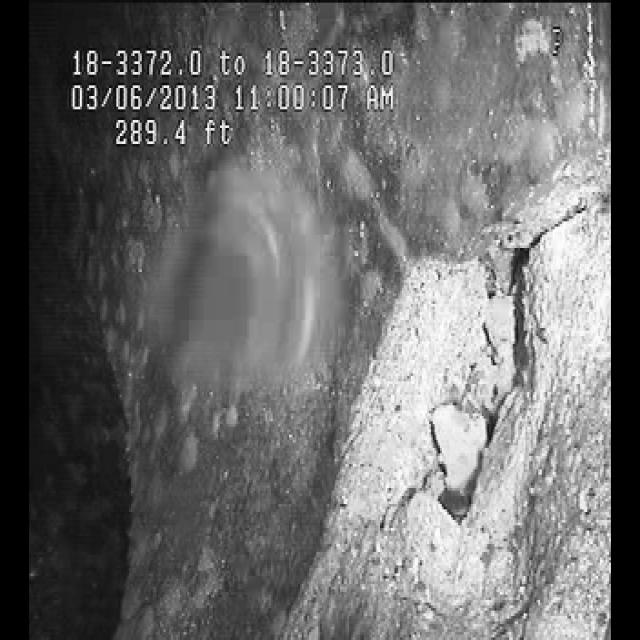Fracture: (389, 196, 581, 584)
